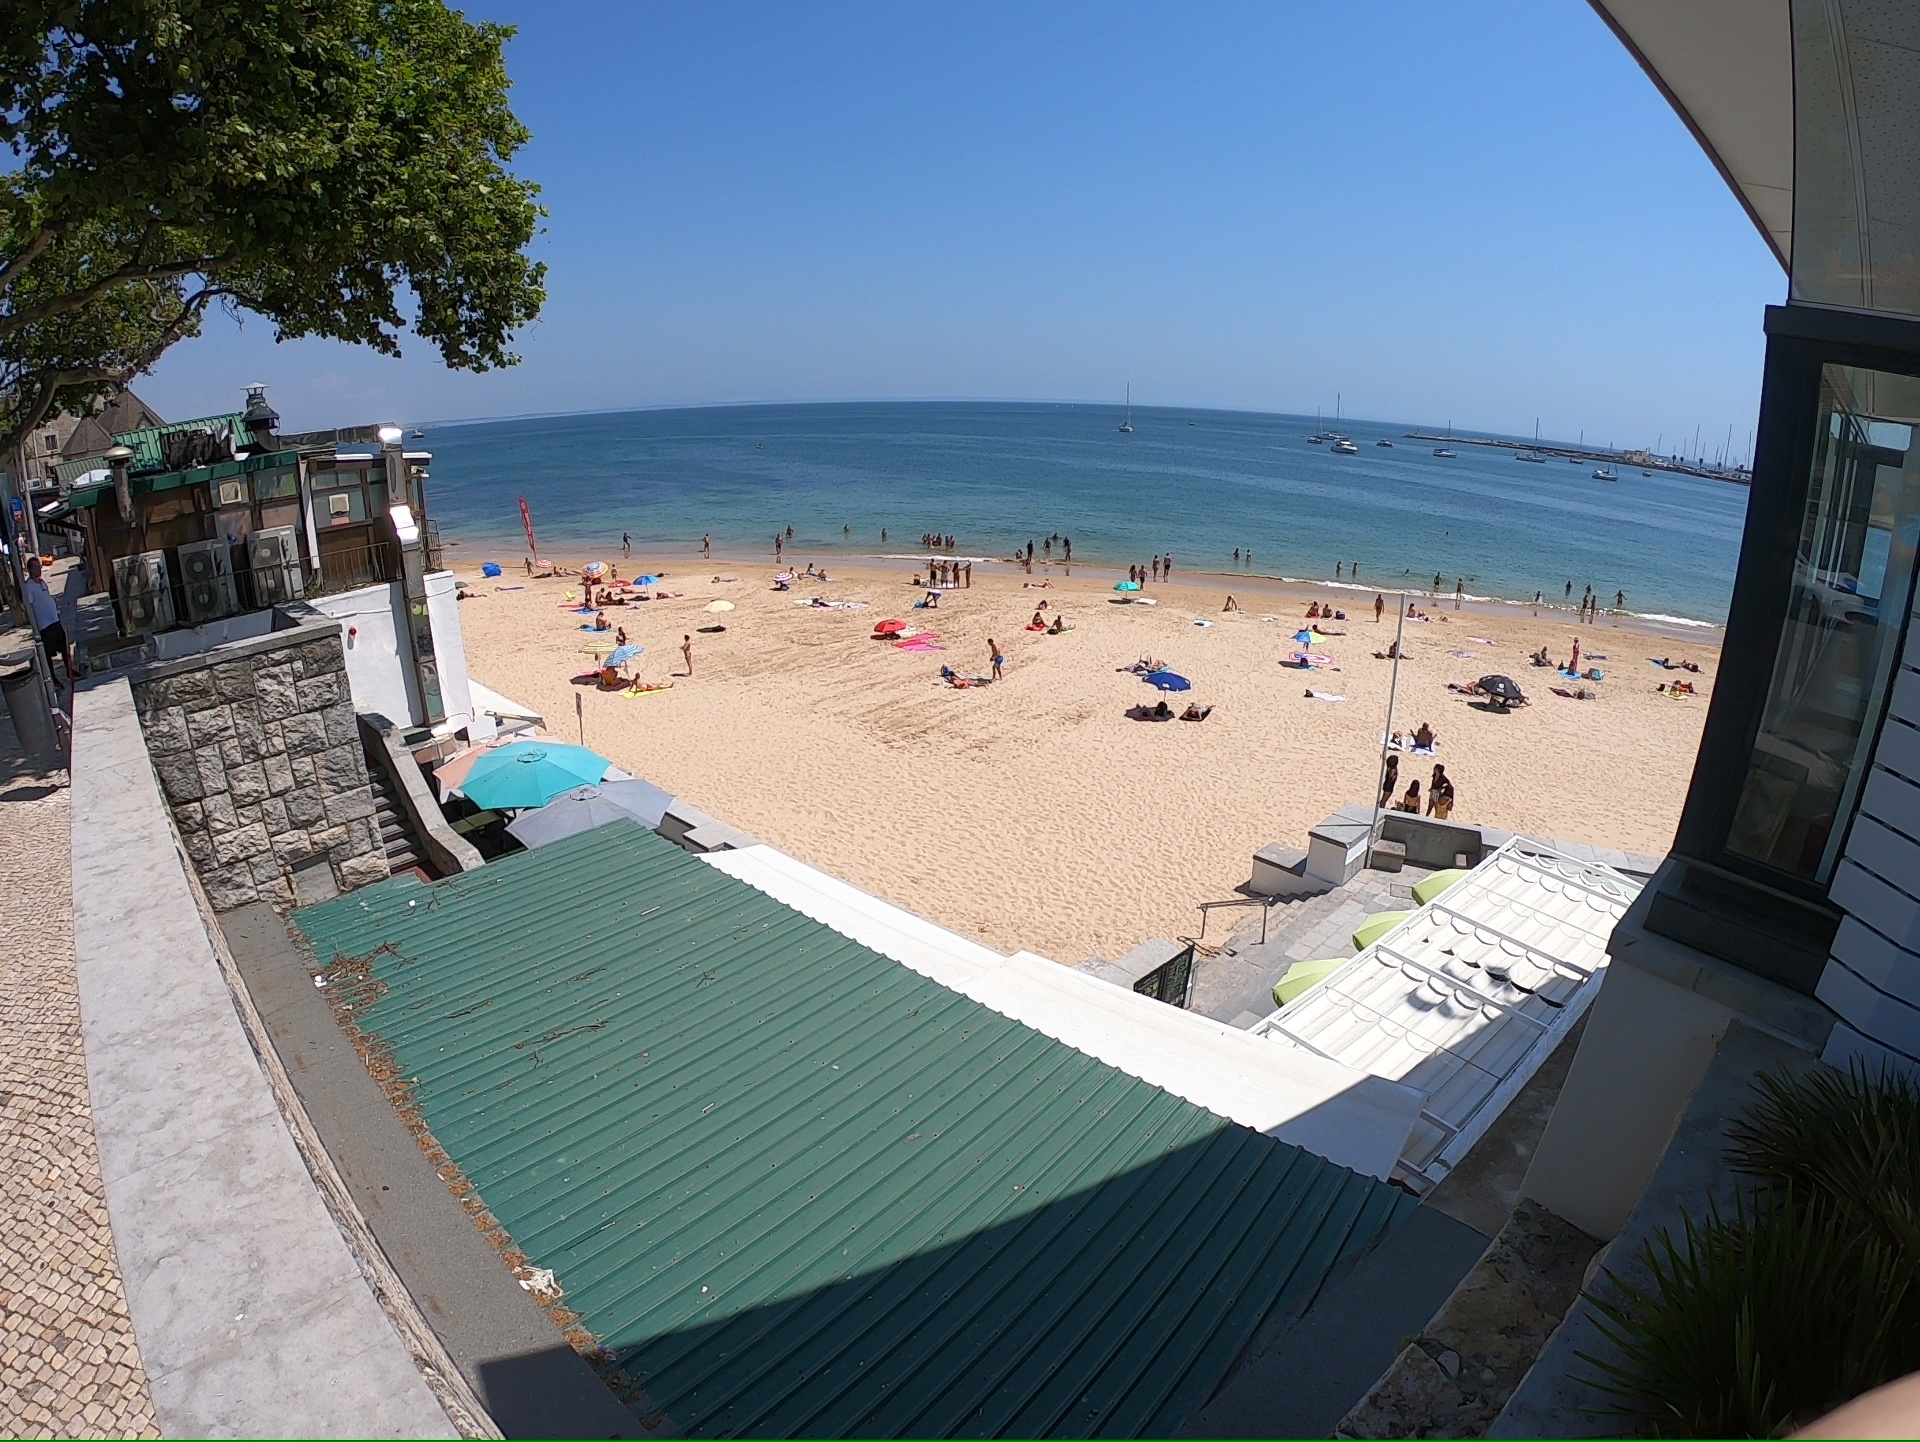person: (1429, 763, 1453, 815), (627, 671, 676, 693), (1446, 676, 1485, 695), (1182, 699, 1217, 720), (987, 637, 1004, 679), (678, 634, 695, 675), (1130, 651, 1151, 674), (1384, 754, 1404, 777), (1053, 613, 1076, 631), (1404, 778, 1422, 803), (962, 559, 976, 588), (1570, 636, 1582, 669), (1312, 624, 1346, 635), (1417, 721, 1433, 745), (594, 610, 611, 630), (951, 558, 961, 590), (581, 574, 592, 607), (926, 556, 939, 585), (1162, 551, 1173, 579), (1373, 592, 1384, 623), (1031, 610, 1045, 631), (940, 557, 950, 589), (1303, 601, 1320, 618), (1030, 579, 1054, 589), (1223, 594, 1237, 612), (616, 625, 627, 648), (522, 556, 534, 576), (620, 532, 631, 552), (1614, 588, 1627, 607), (1060, 534, 1069, 561), (457, 590, 487, 598), (773, 533, 785, 555), (1138, 564, 1148, 586), (787, 565, 801, 580), (1152, 553, 1160, 579), (655, 590, 682, 598), (1026, 539, 1034, 565), (702, 532, 710, 556), (1387, 640, 1397, 658), (1407, 601, 1416, 619), (1432, 570, 1441, 588), (1322, 603, 1332, 618), (1455, 578, 1463, 600), (1128, 563, 1137, 580), (1042, 535, 1051, 552), (553, 565, 567, 576), (1656, 656, 1671, 665), (1581, 593, 1587, 615), (618, 587, 646, 593), (806, 561, 816, 573), (785, 525, 793, 539), (1685, 662, 1699, 671), (610, 562, 617, 580), (1590, 593, 1595, 615), (1564, 579, 1570, 596), (595, 587, 605, 597), (614, 596, 624, 605), (1540, 645, 1549, 656), (1335, 561, 1342, 576), (881, 528, 887, 544), (1351, 562, 1357, 575), (1245, 547, 1251, 560), (1232, 547, 1239, 560), (1014, 549, 1022, 559), (936, 532, 942, 544), (921, 532, 927, 544), (1534, 590, 1540, 602), (949, 534, 954, 548), (944, 535, 948, 549), (1404, 567, 1409, 575), (927, 532, 931, 544), (1052, 531, 1058, 540), (606, 590, 611, 599), (1585, 583, 1590, 593), (932, 533, 936, 545), (843, 523, 847, 531)
